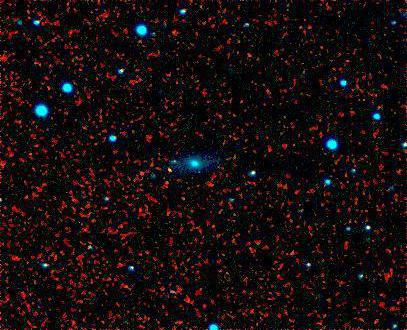star: (155, 156, 185, 186)
